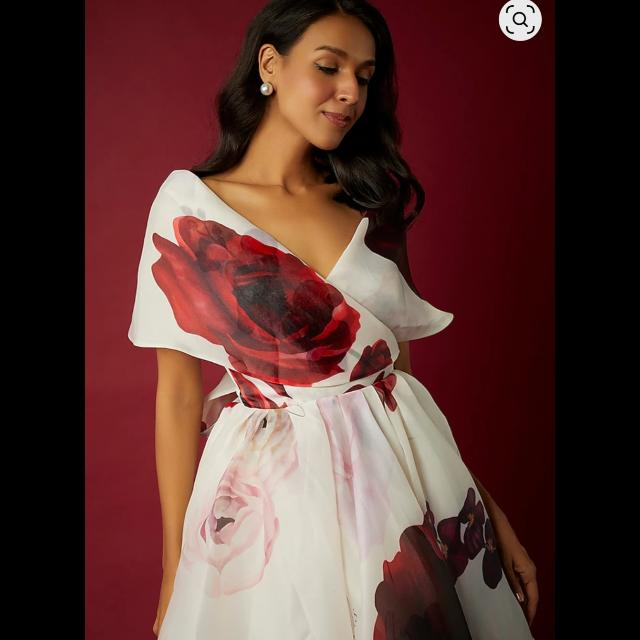dress: (131, 166, 529, 640)
